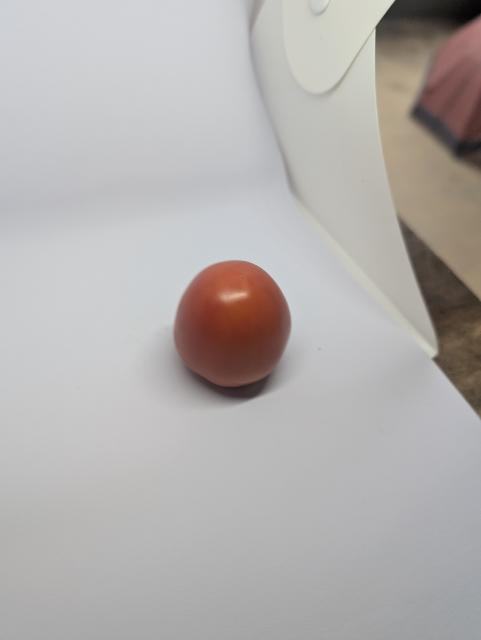red: (162, 260, 304, 398)
